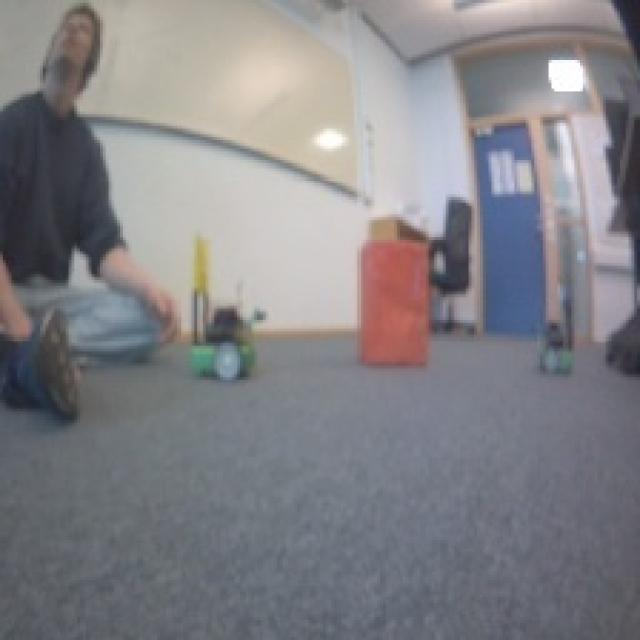robot: (186, 299, 257, 380), (535, 318, 581, 378)
target: (354, 231, 432, 366)
